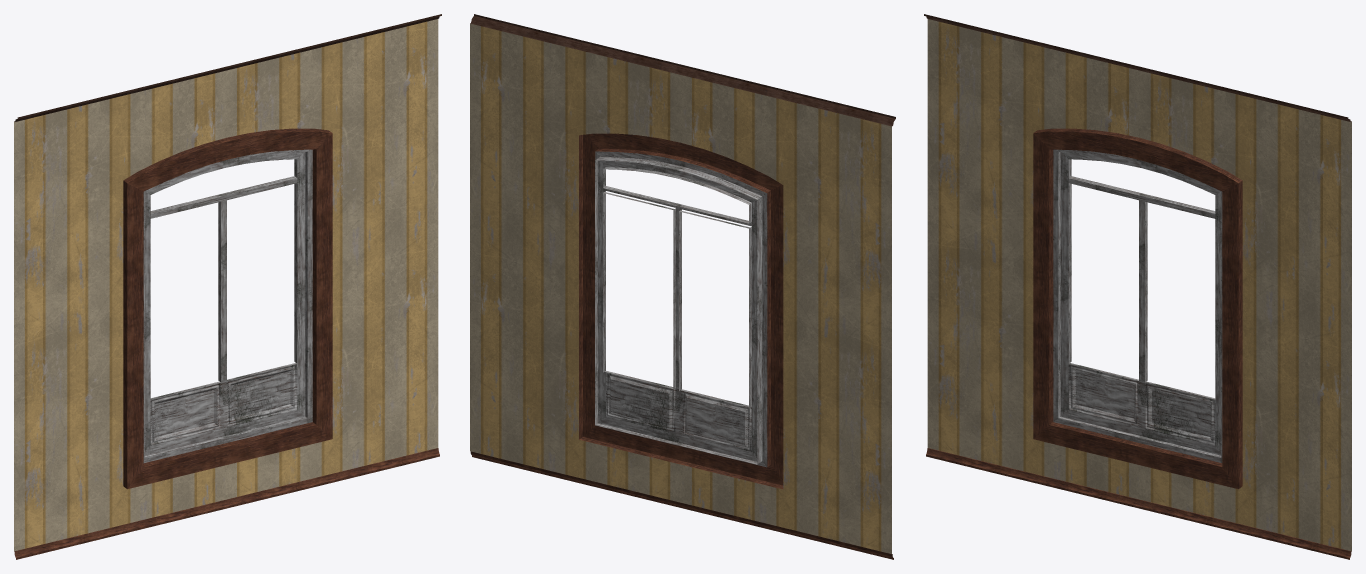
The model's file is SM_Window_Wall.fbx.
3 views of the same model, side by side, from view 1: azimuth 30°, elevation 25°; view 2: azimuth 150°, elevation 25°; view 3: azimuth 330°, elevation 25° (orthographic).
Parts seen in each view (by area): view 1: SM_Window_Wallpaper; view 2: SM_Window_Wallpaper; view 3: SM_Window_Wallpaper.
Boxes of the visible parts, x1,y1,x2,y2 form: SM_Window_Wallpaper: (14, 14, 441, 559); SM_Window_Wallpaper: (470, 14, 895, 559); SM_Window_Wallpaper: (924, 14, 1351, 559).
Bounding box in the file's own units: 400 × 400 × 14.67.
